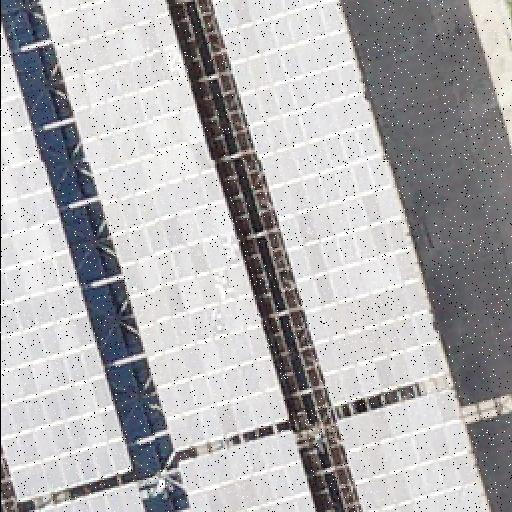solar-panel: (38, 1, 290, 455), (213, 1, 451, 407), (1, 22, 135, 506), (341, 388, 491, 512), (176, 428, 316, 512), (33, 480, 143, 512)
